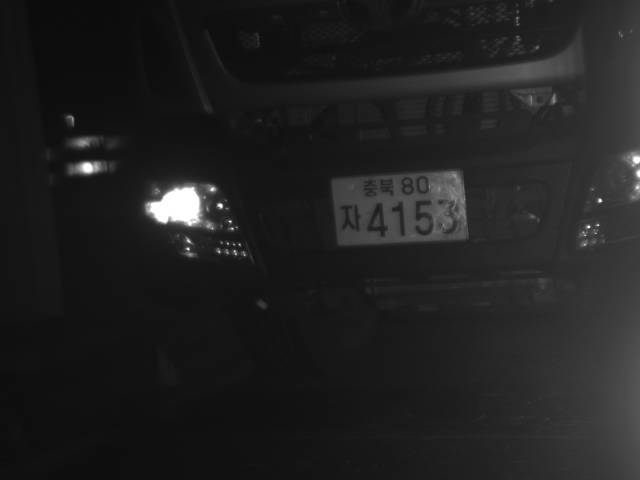car: (128, 1, 637, 336)
plate: (329, 169, 470, 245)
